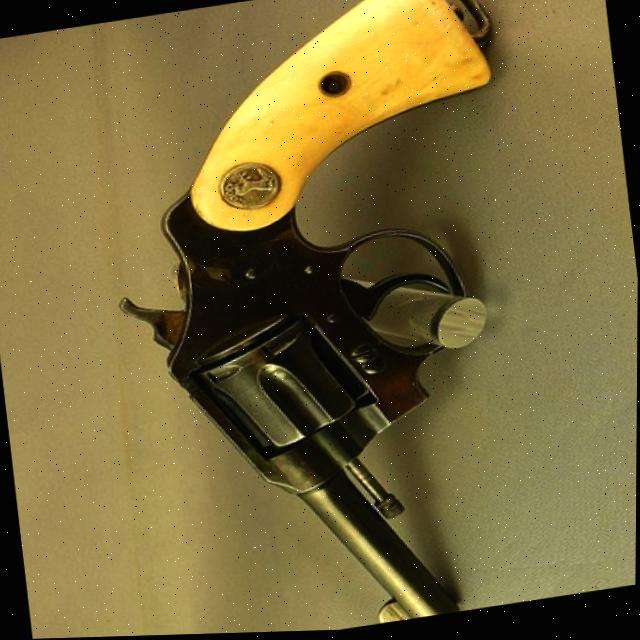pistol: (80, 0, 555, 638)
